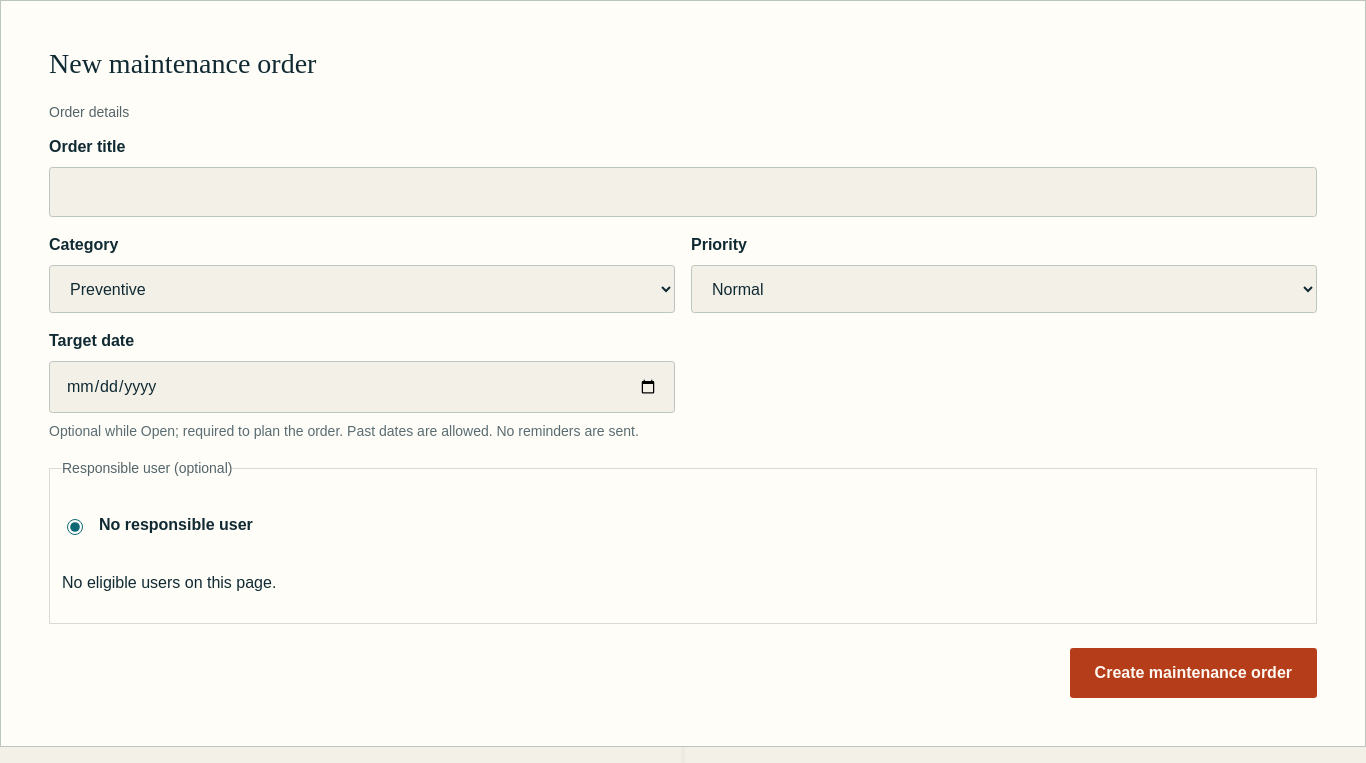
Test: checks existing orders after an unconfirmed creation before allowing another explicit attempt
Type "Possibly saved order" into the field labelled "Order title" at (683, 192), box [49,167,1317,217]
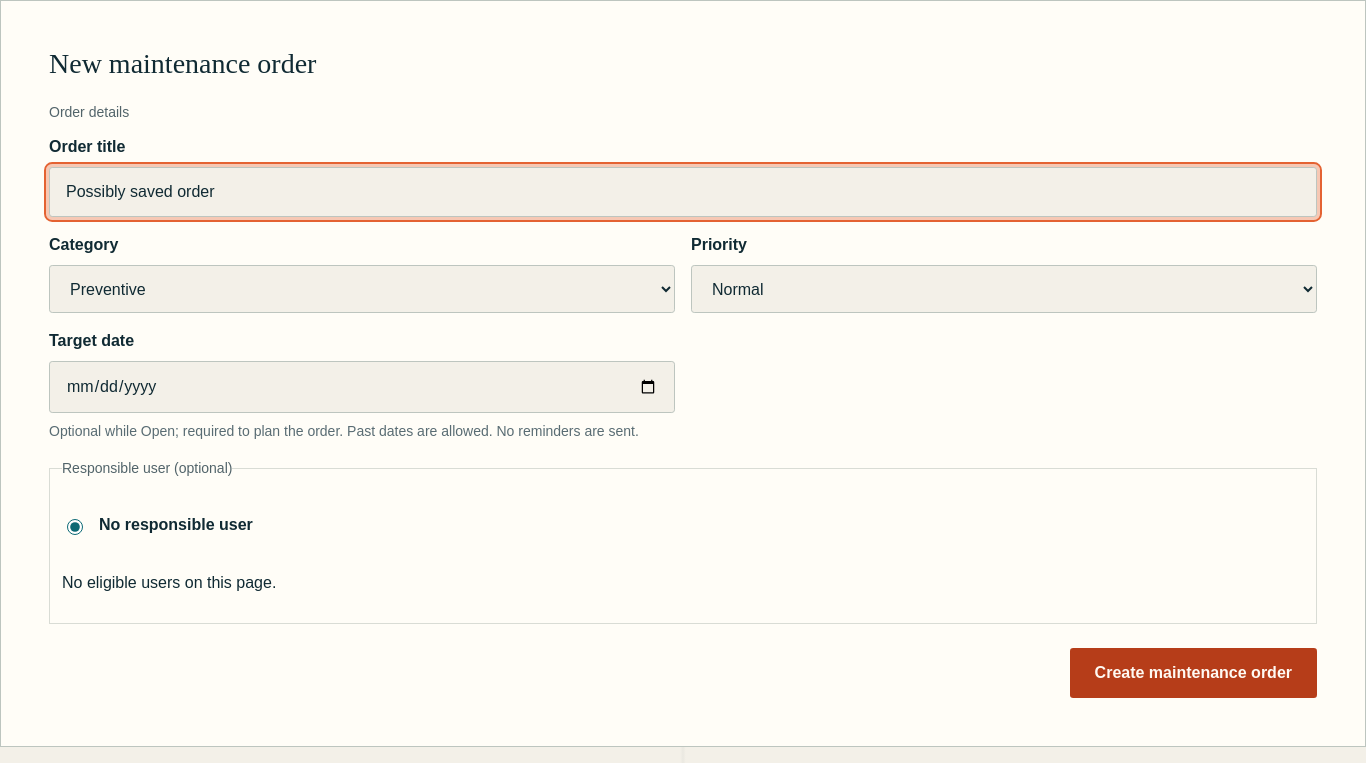
Click the button "Create maintenance order" at (1193, 673), box [1070,648,1317,698]
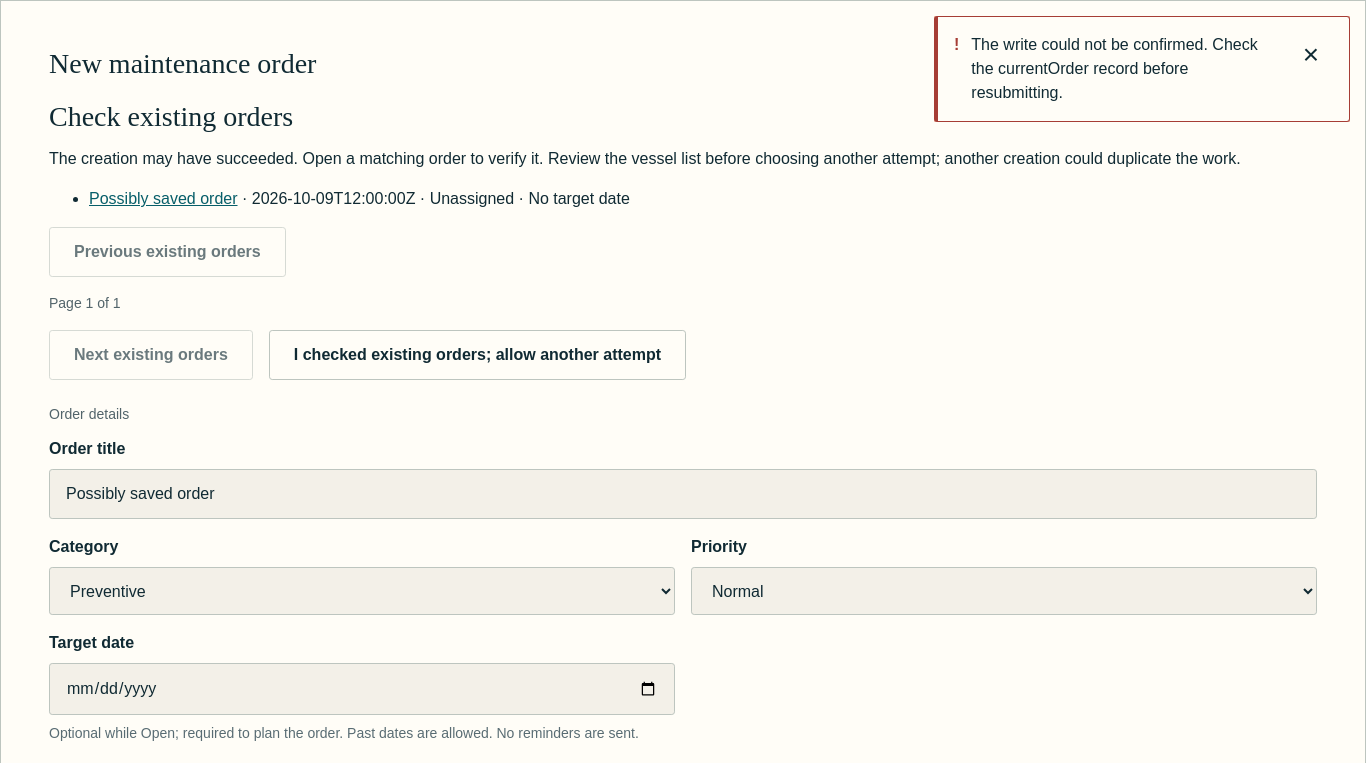
Expected: the link "Possibly saved order" is shown, [89,190,238,207]
Click the button "I checked existing orders; allow another attempt" at (477, 355), box [269,330,686,380]
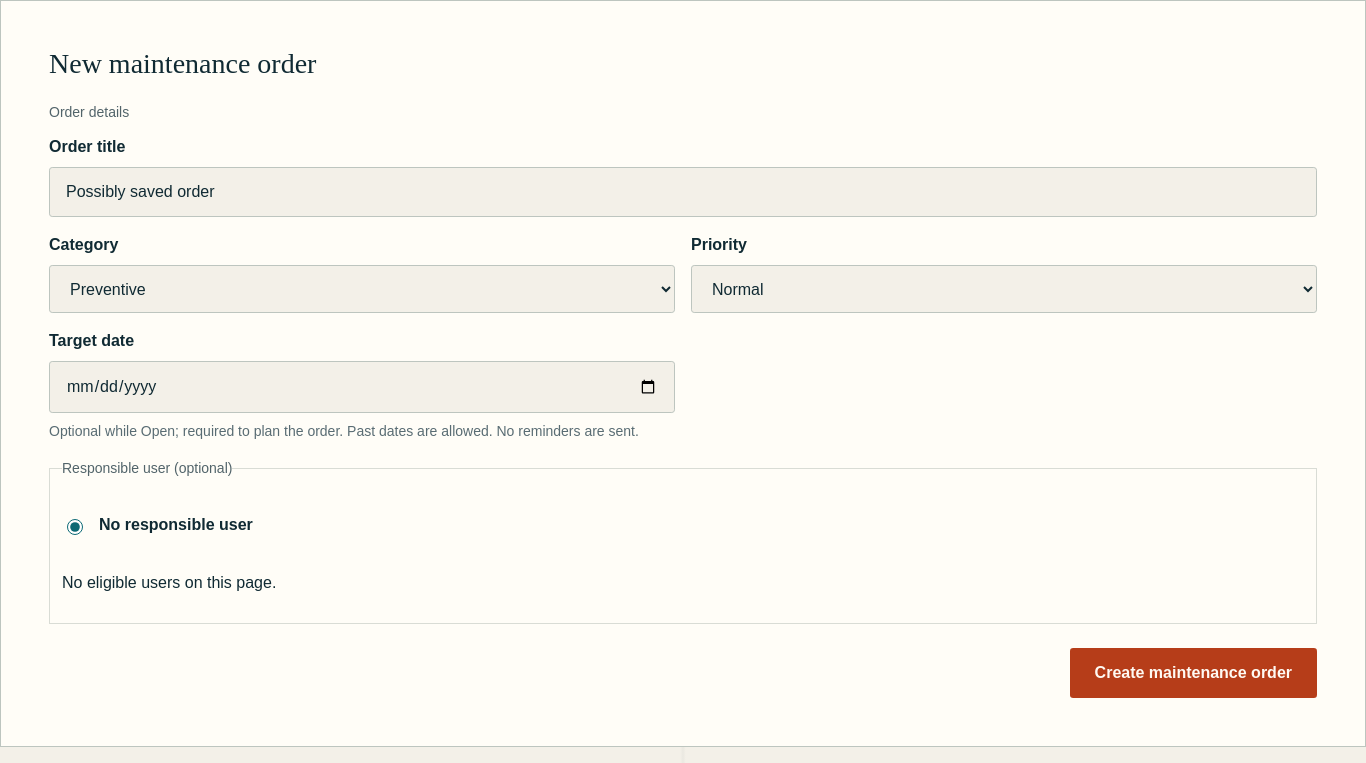
Expected: the button "Create maintenance order" is enabled, [1070,648,1317,698]
